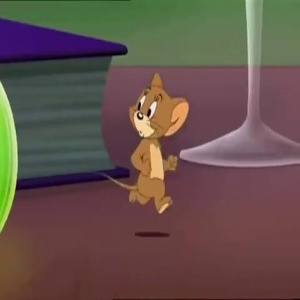Jerry: (123, 73, 191, 141)
